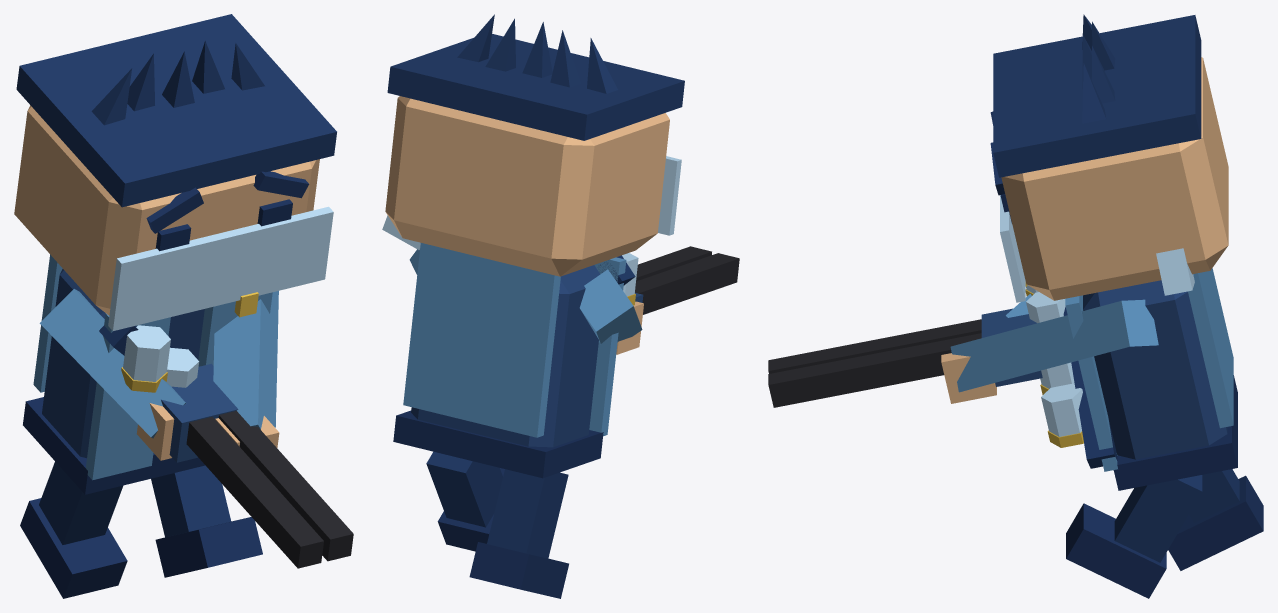
File: shotgunner_r2.glb
3 views of the same model, side by side, from view 1: azimuth 30°, elevation 25°; view 2: azimuth 150°, elevation 25°; view 3: azimuth 270°, elevation 25° (orthographic). The views are drawn at different scales.
Parts seen in each view (by area): view 1: shotgunner_r2_mesh; view 2: shotgunner_r2_mesh; view 3: shotgunner_r2_mesh.
Part boxes in pixels (x1,y1,x2,y2): shotgunner_r2_mesh: (14, 14, 353, 598); shotgunner_r2_mesh: (382, 14, 739, 598); shotgunner_r2_mesh: (768, 14, 1263, 598).
Size of the model in its own units: 0.6641 by 1.5 by 1.24.
Materials: 1 (1 with a texture image).
